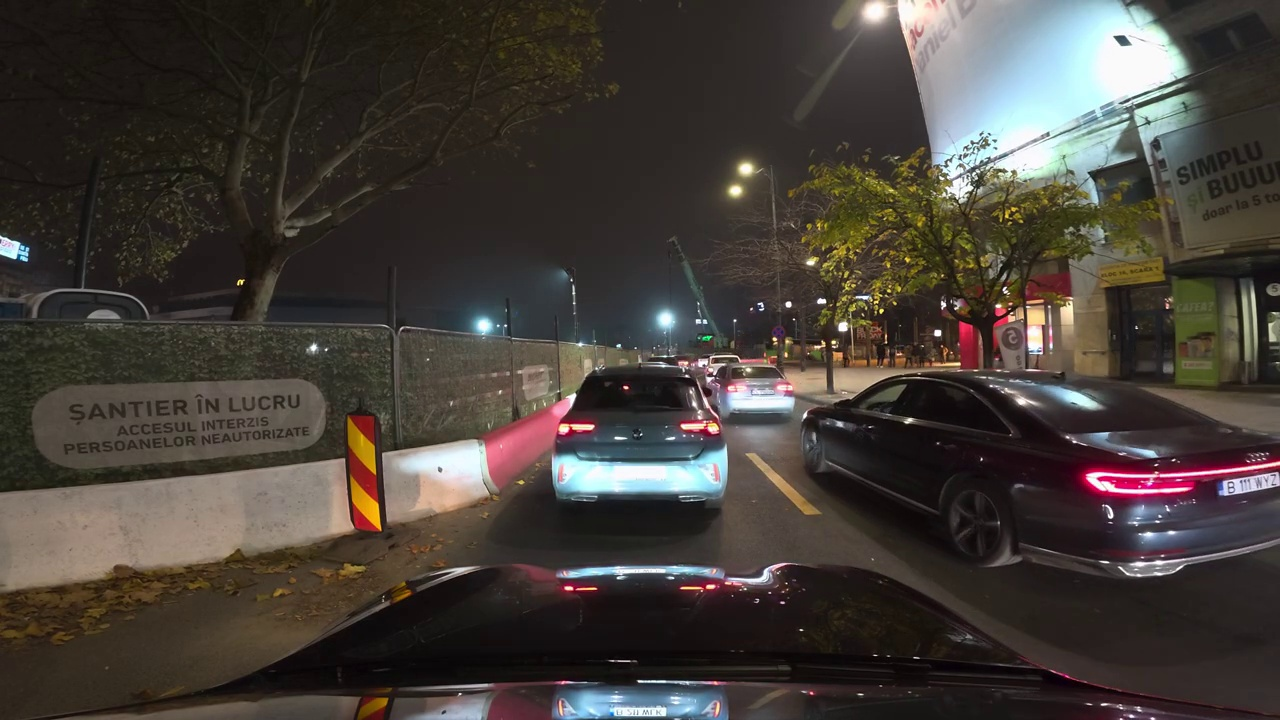acesa: (724, 162, 757, 202), (730, 157, 760, 192), (861, 1, 892, 27), (654, 308, 677, 332)
